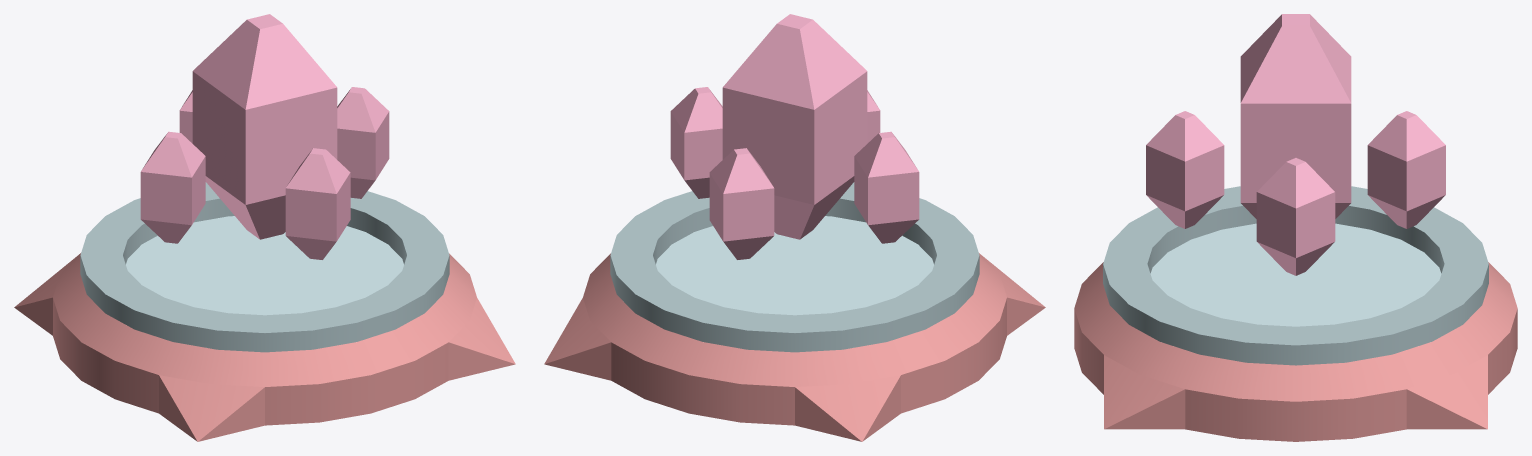
File: towerRound_crystals.glb
3 views of the same model, side by side, from view 1: azimuth 30°, elevation 25°; view 2: azimuth 150°, elevation 25°; view 3: azimuth 270°, elevation 25° (orthographic). The views are drawn at different scales.
Visible parts, largest first — view 1: towerRound_crystals, crystal (×5); view 2: towerRound_crystals, crystal (×5); view 3: towerRound_crystals, crystal (×4).
Part boxes in pixels (x1=…): towerRound_crystals: x1=14, y1=182, x2=515, y2=441; crystal (×5): x1=140, y1=14, x2=389, y2=259; towerRound_crystals: x1=544, y1=182, x2=1045, y2=441; crystal (×5): x1=670, y1=14, x2=919, y2=259; towerRound_crystals: x1=1074, y1=186, x2=1517, y2=441; crystal (×4): x1=1146, y1=14, x2=1445, y2=275.
Bounding box in the file's own units: 1 × 0.8175 × 1.
